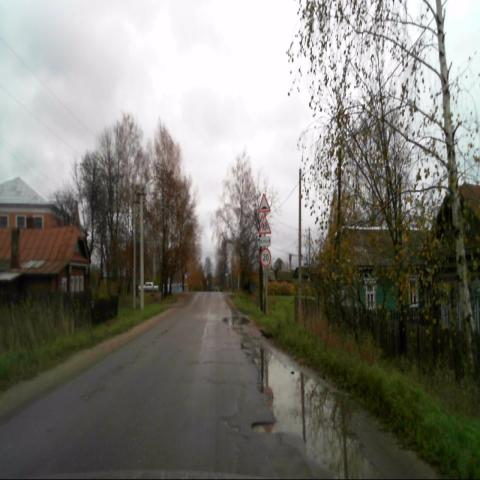1_17: (258, 192, 270, 213)
